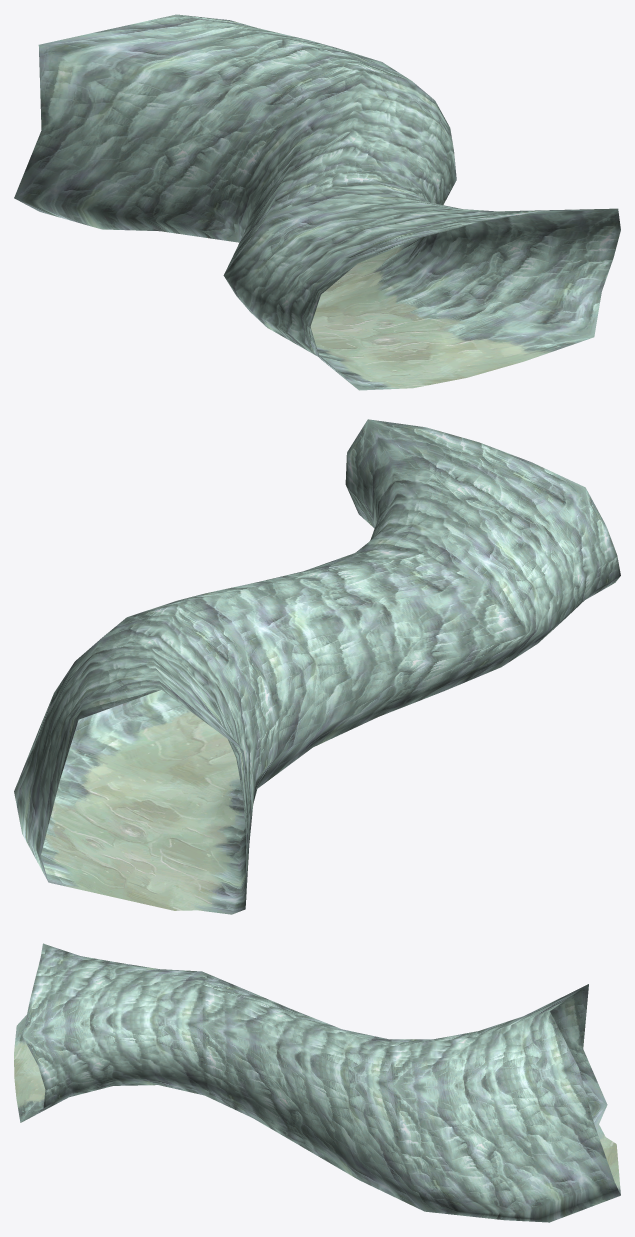
File: TROLLHOLE02_PS-MAINCAVE09.fbx
3 renders of one model, top to bottom at view 1: azimuth 30°, elevation 25°; view 2: azimuth 150°, elevation 25°; view 3: azimuth 270°, elevation 25°, orthographic. The views are drawn at different scales.
Visible parts, largest first — view 1: TROLLHOLE02_PS-MAINCAVE09; view 2: TROLLHOLE02_PS-MAINCAVE09; view 3: TROLLHOLE02_PS-MAINCAVE09.
Boxes of the visible parts, x1,y1,x2,y2 form: TROLLHOLE02_PS-MAINCAVE09: (14,14,620,390); TROLLHOLE02_PS-MAINCAVE09: (14,419,620,914); TROLLHOLE02_PS-MAINCAVE09: (14,943,620,1222).
Bounding box in the file's own units: 137580 × 81649 × 247350.
Materials: 2 (2 with a texture image).
